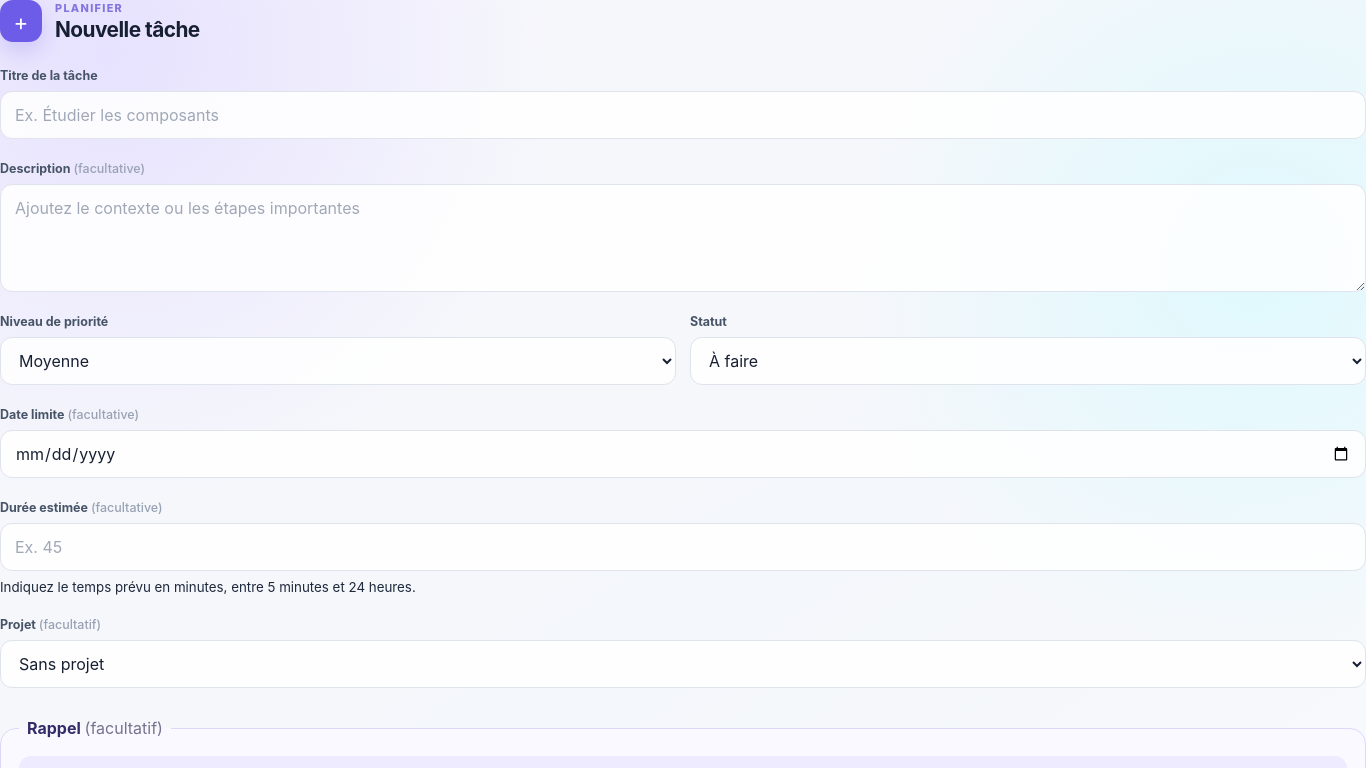
TaskFormComponent › refuse une durée estimée inférieure à cinq minutes
This screenshot has width=1366, height=768.
Type "3" into the number field with id "estimated-minutes". click: (683, 547)
box: [0, 523, 1365, 571]
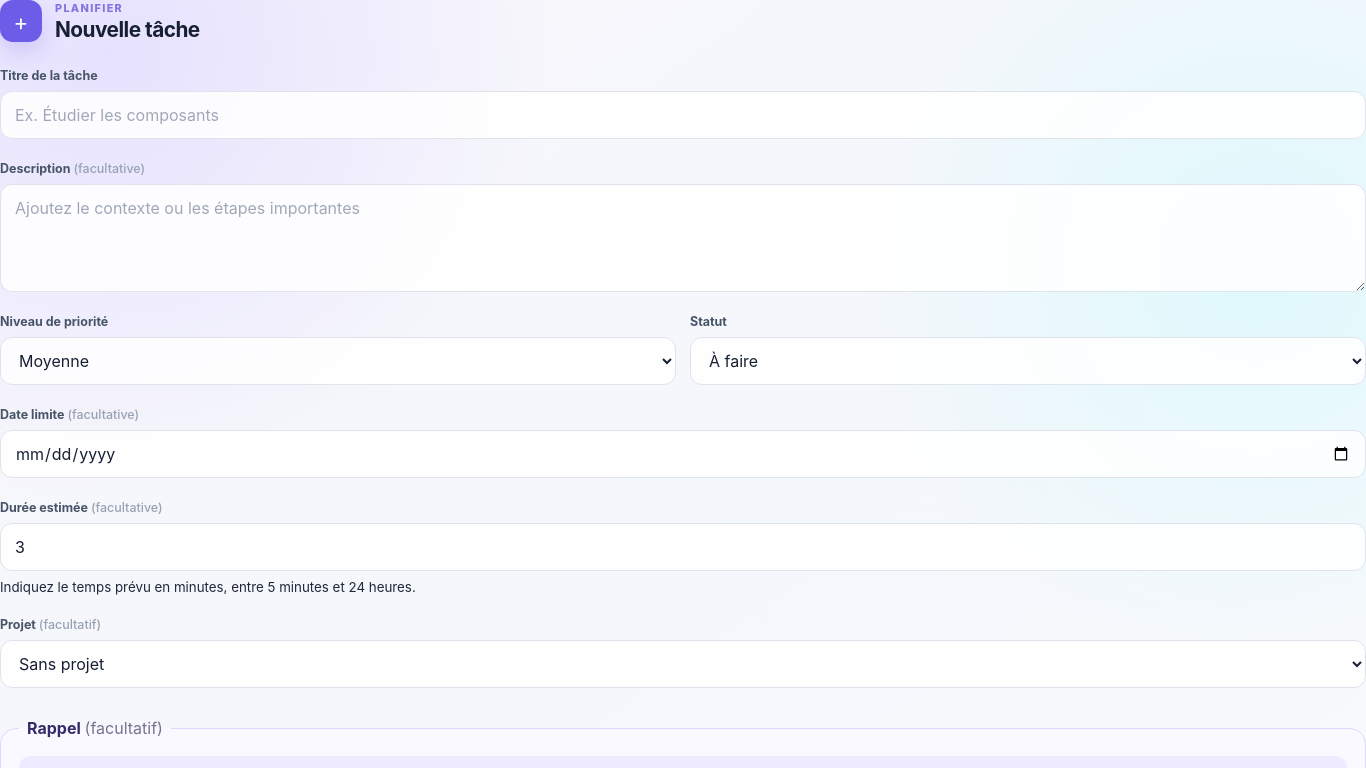
Leave the number field with id "estimated-minutes", box [0, 523, 1365, 571]
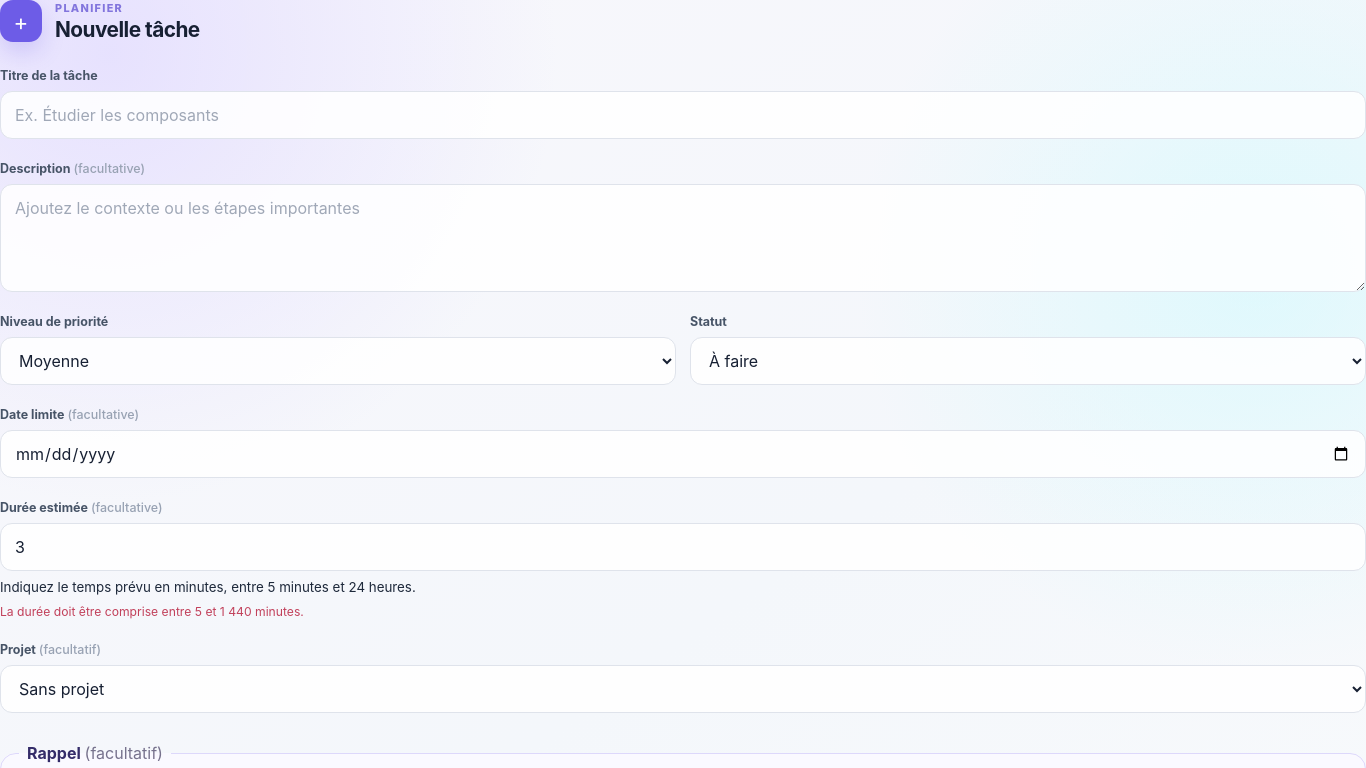
expect the text "comprise entre 5 et 1 440 minutes" is shown: met, box [0, 604, 304, 619]
